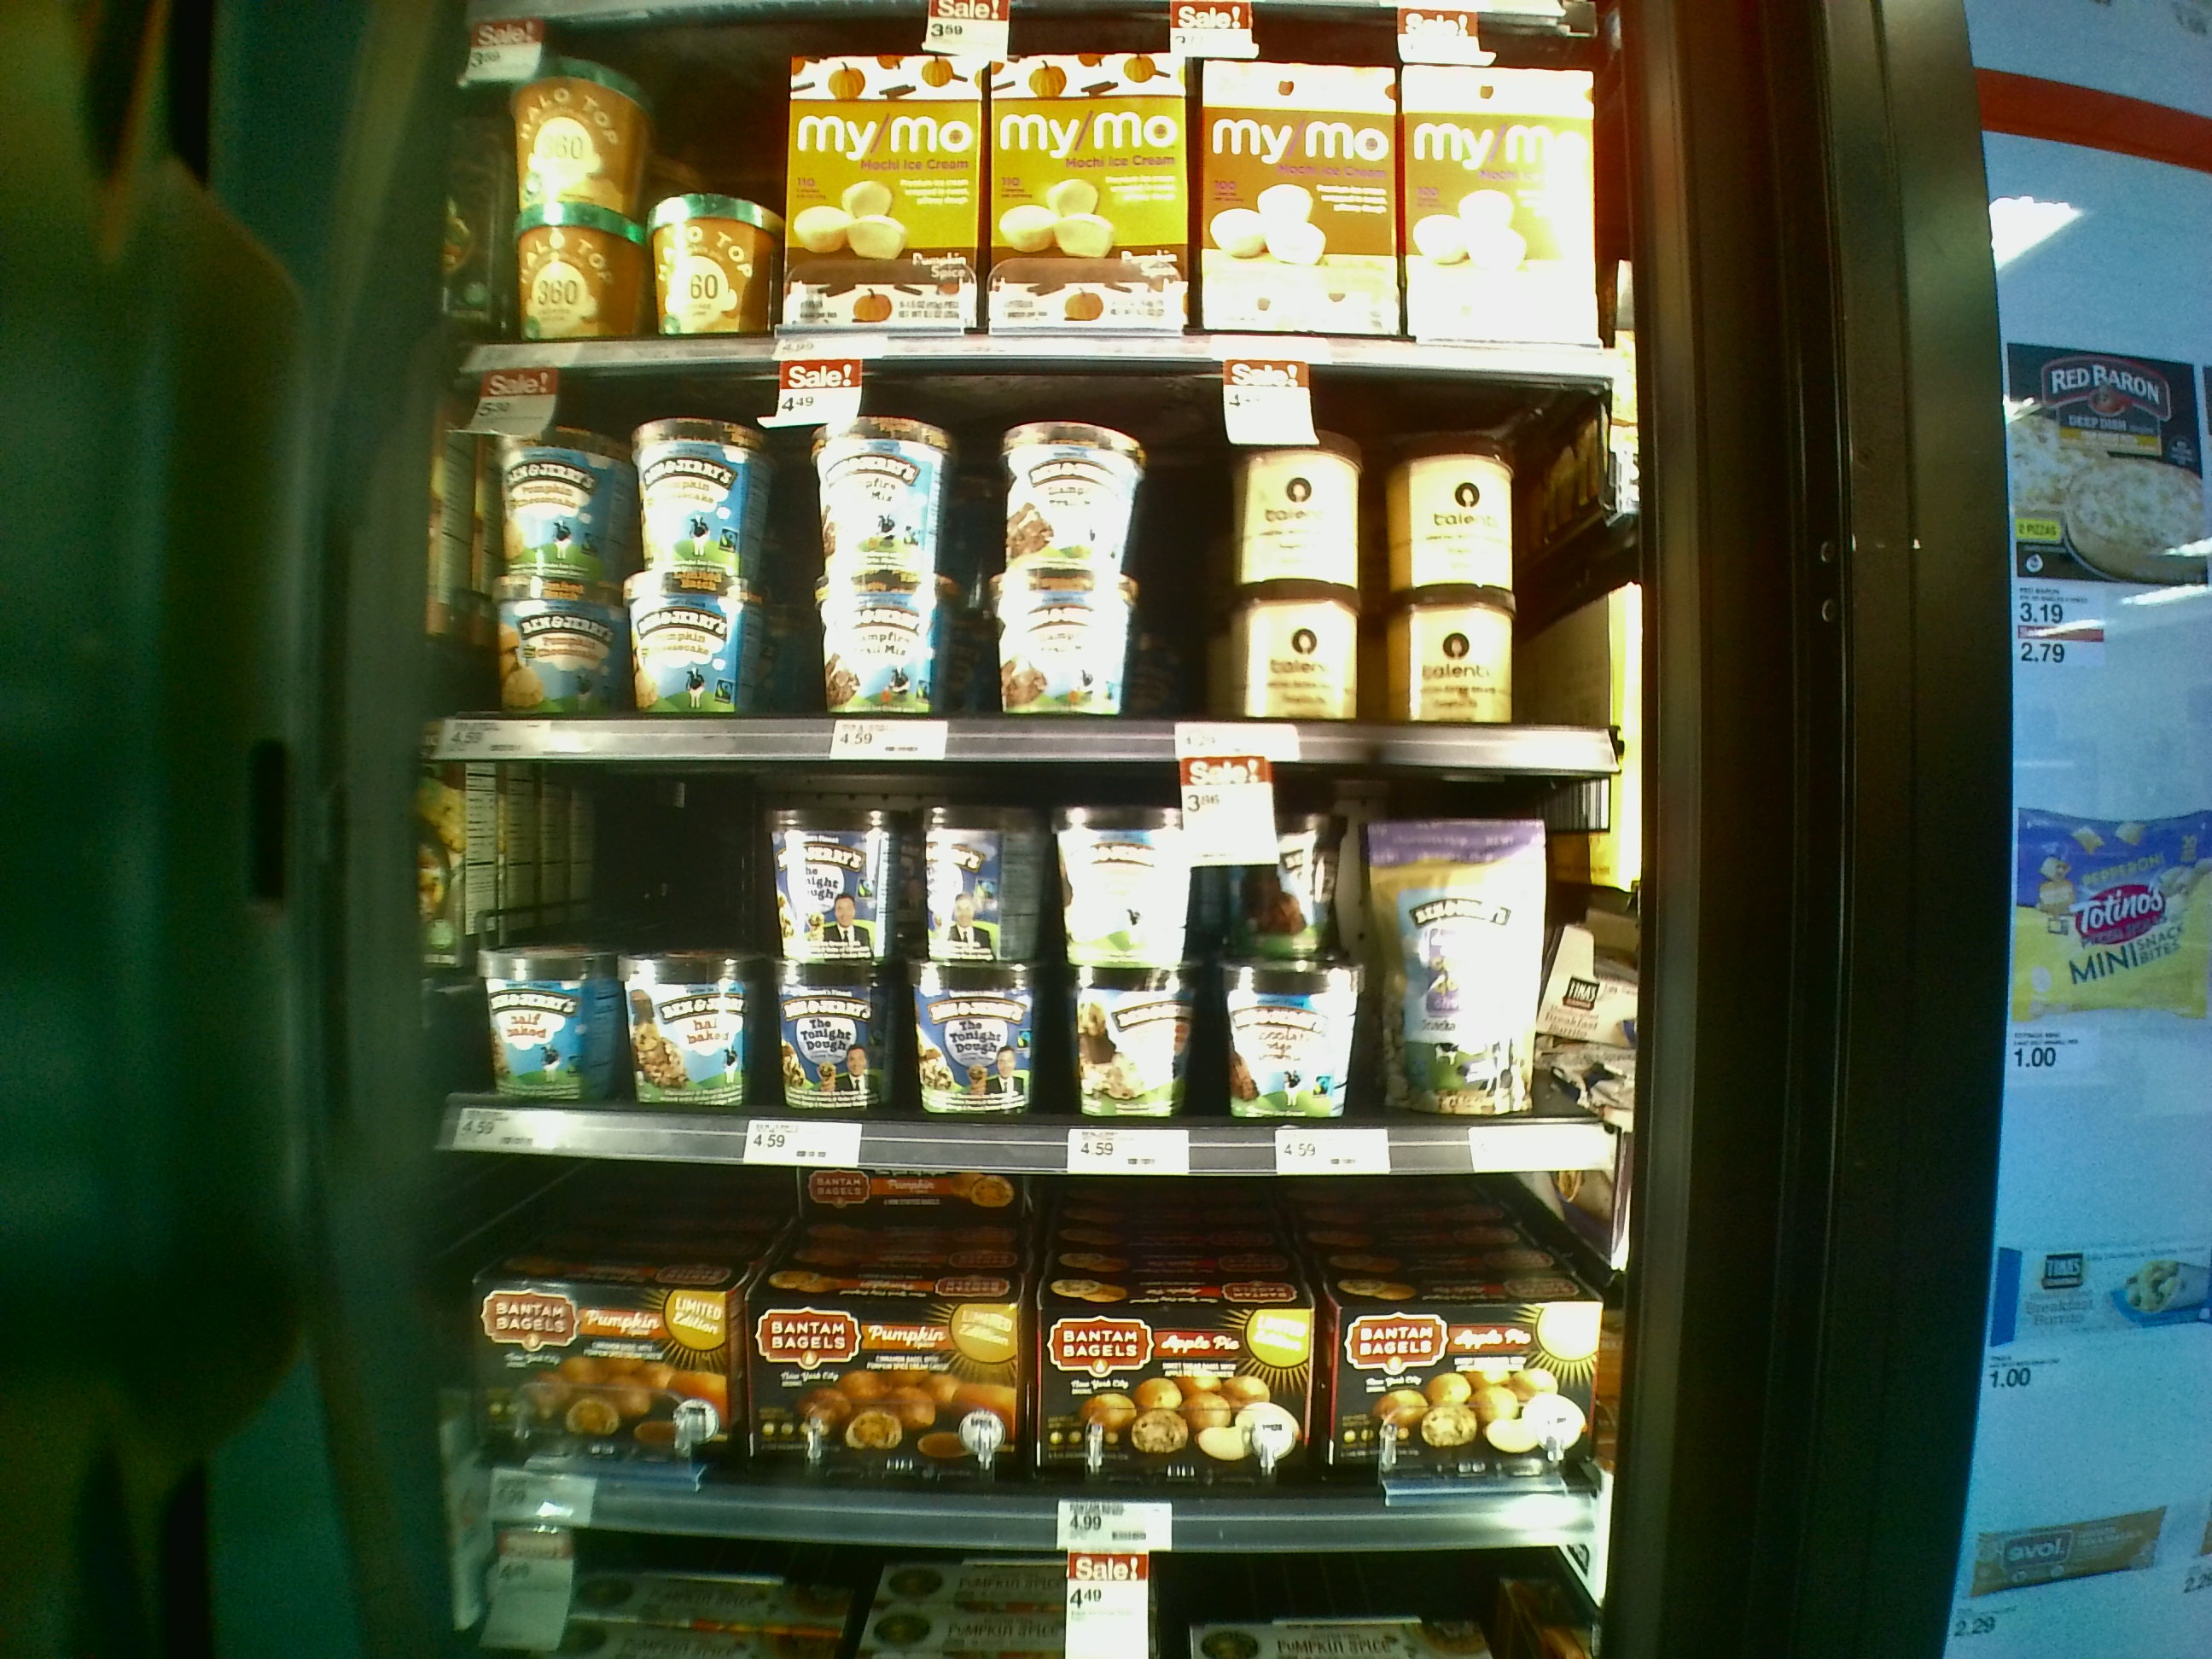shelf: (420, 737, 1641, 1175), (408, 343, 1641, 763), (402, 1122, 1615, 1546)
